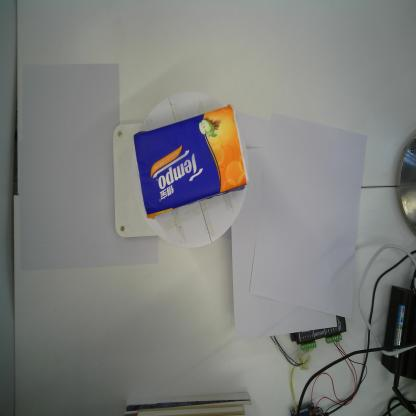Tissue: (132, 105, 250, 225)
